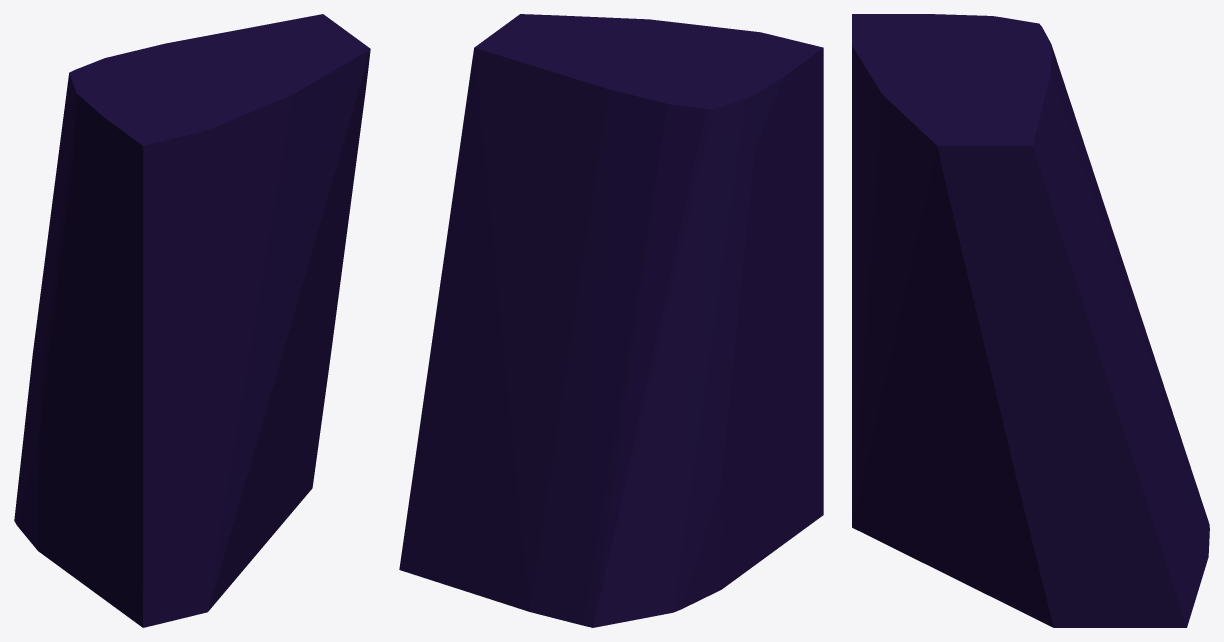
File: right-shoulder-pitch-0_part_107.obj
The picture shows the model from 3 angles, left to right: view 1: azimuth 30°, elevation 25°; view 2: azimuth 150°, elevation 25°; view 3: azimuth 270°, elevation 25°; orthographic projection. The views are drawn at different scales.
Size of the model in its own units: 0.0101 by 0.0172 by 0.0116.
